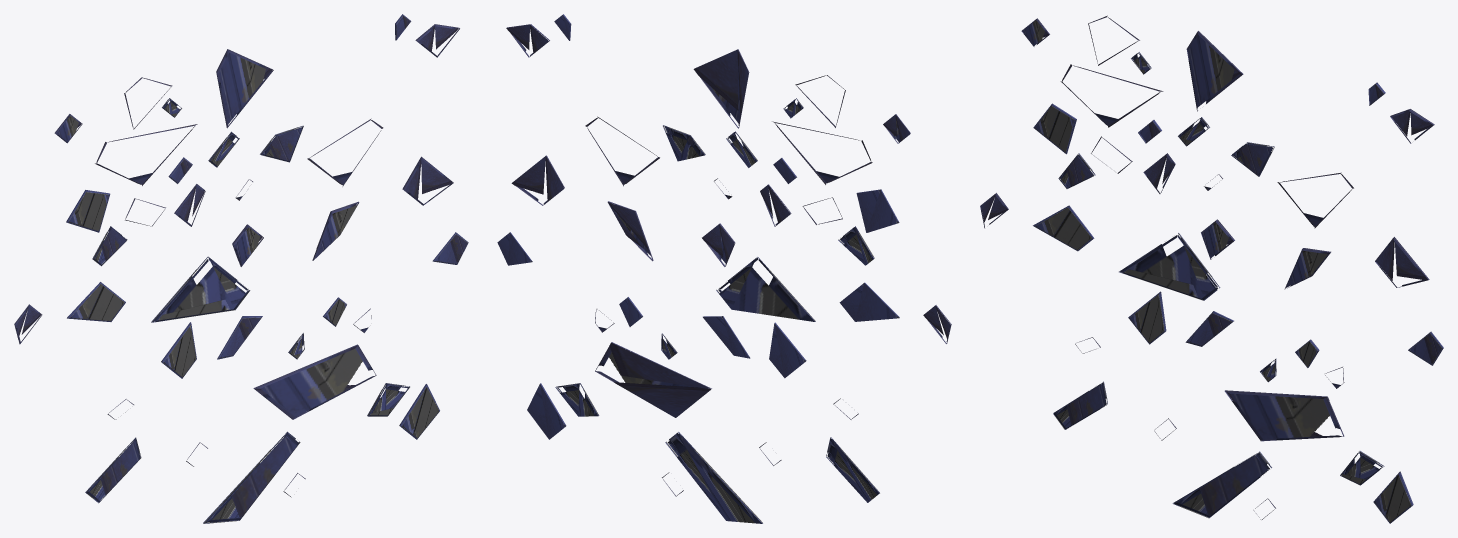
3 views of the same model, side by side, from view 1: azimuth 30°, elevation 25°; view 2: azimuth 150°, elevation 25°; view 3: azimuth 330°, elevation 25° (orthographic). The views are drawn at different scales.
Bounding box in the file's own units: 0.9414 × 0.94 × 0.0145.
